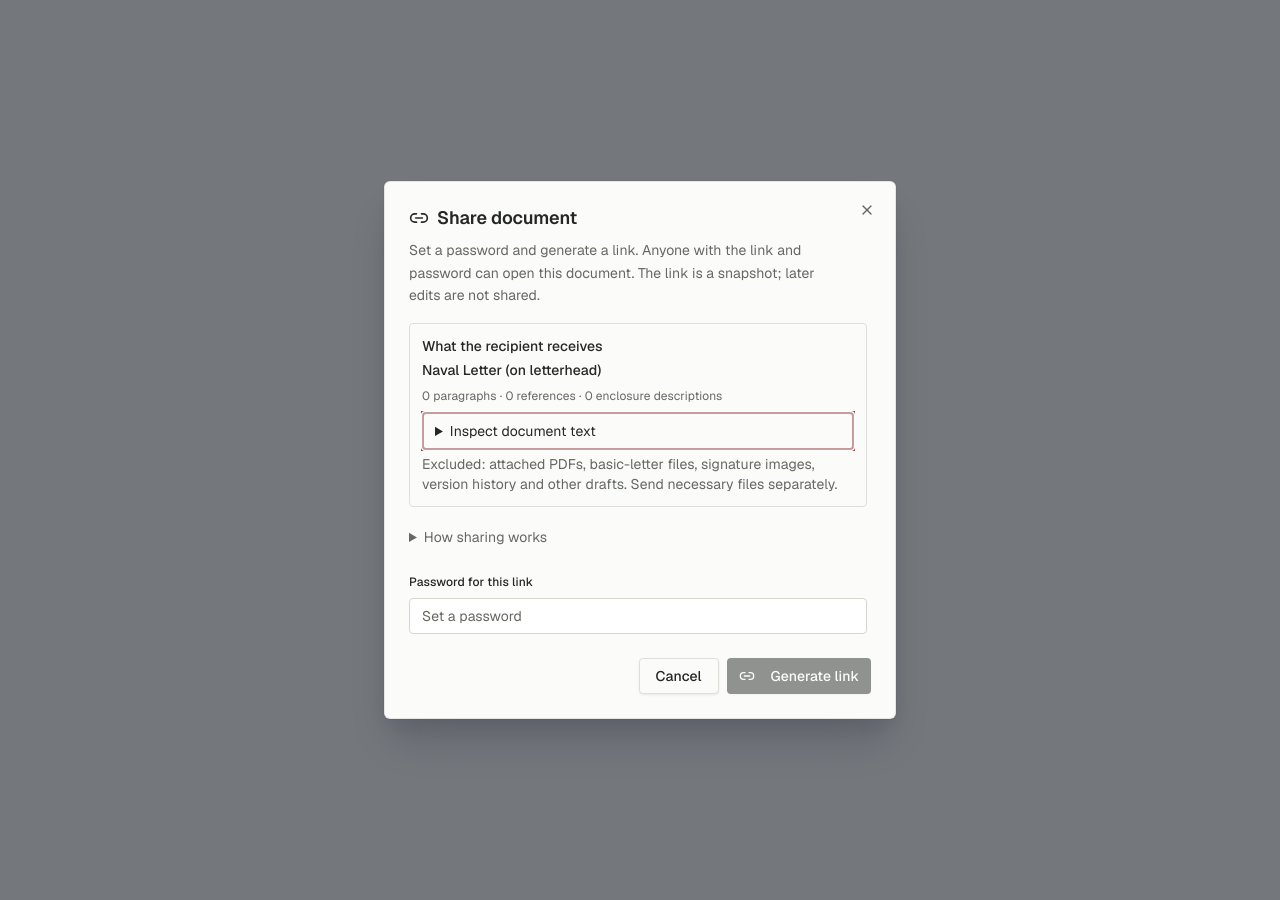
ShareModal — share mode › keeps the link usable after a failed initial copy and clears the error on retry
This screenshot has width=1280, height=900.
Type "test-password" into the password field labelled "Password for this link" at (638, 616), box [409,598,867,634]
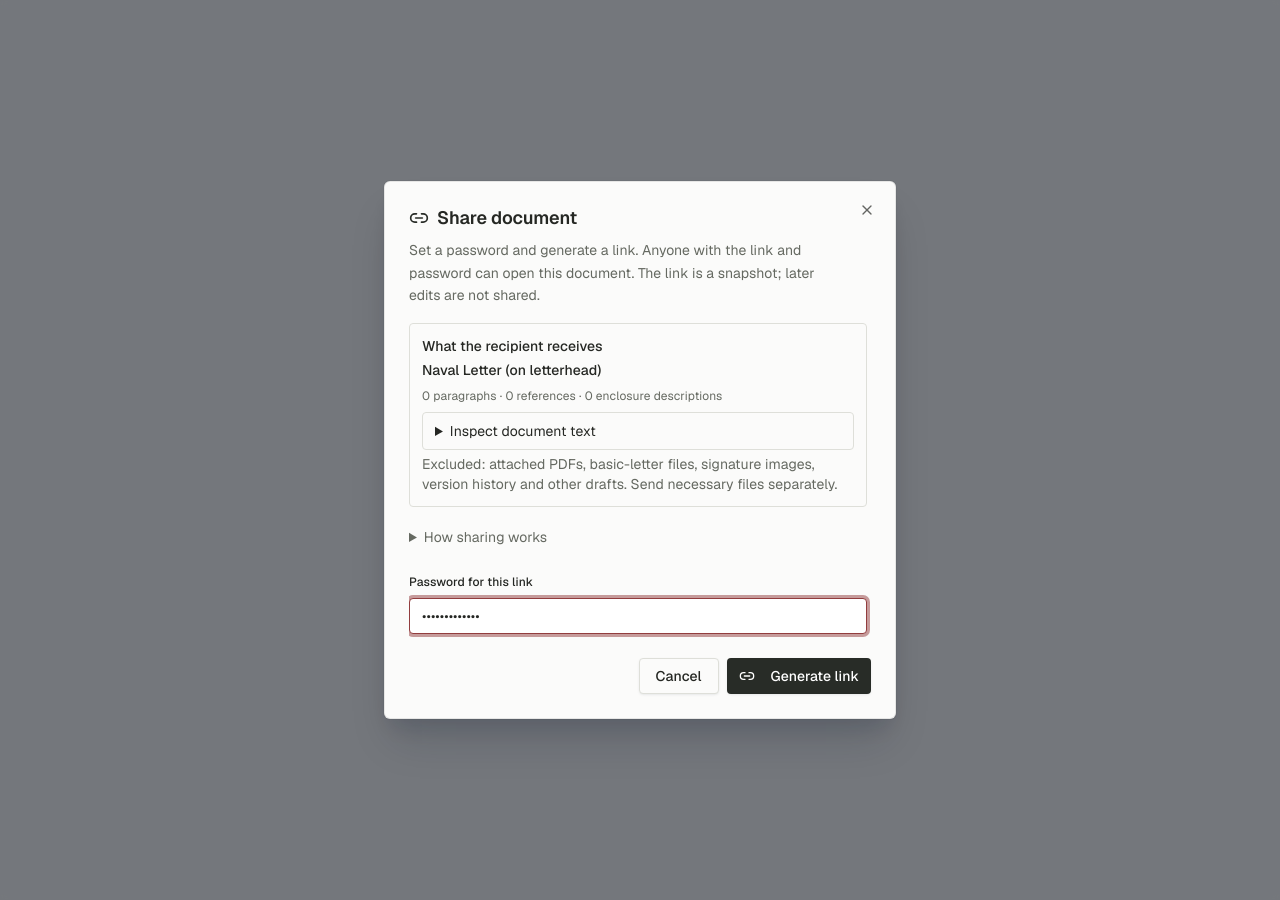
Click the button "Generate link" at (799, 676), box [727,658,871,694]
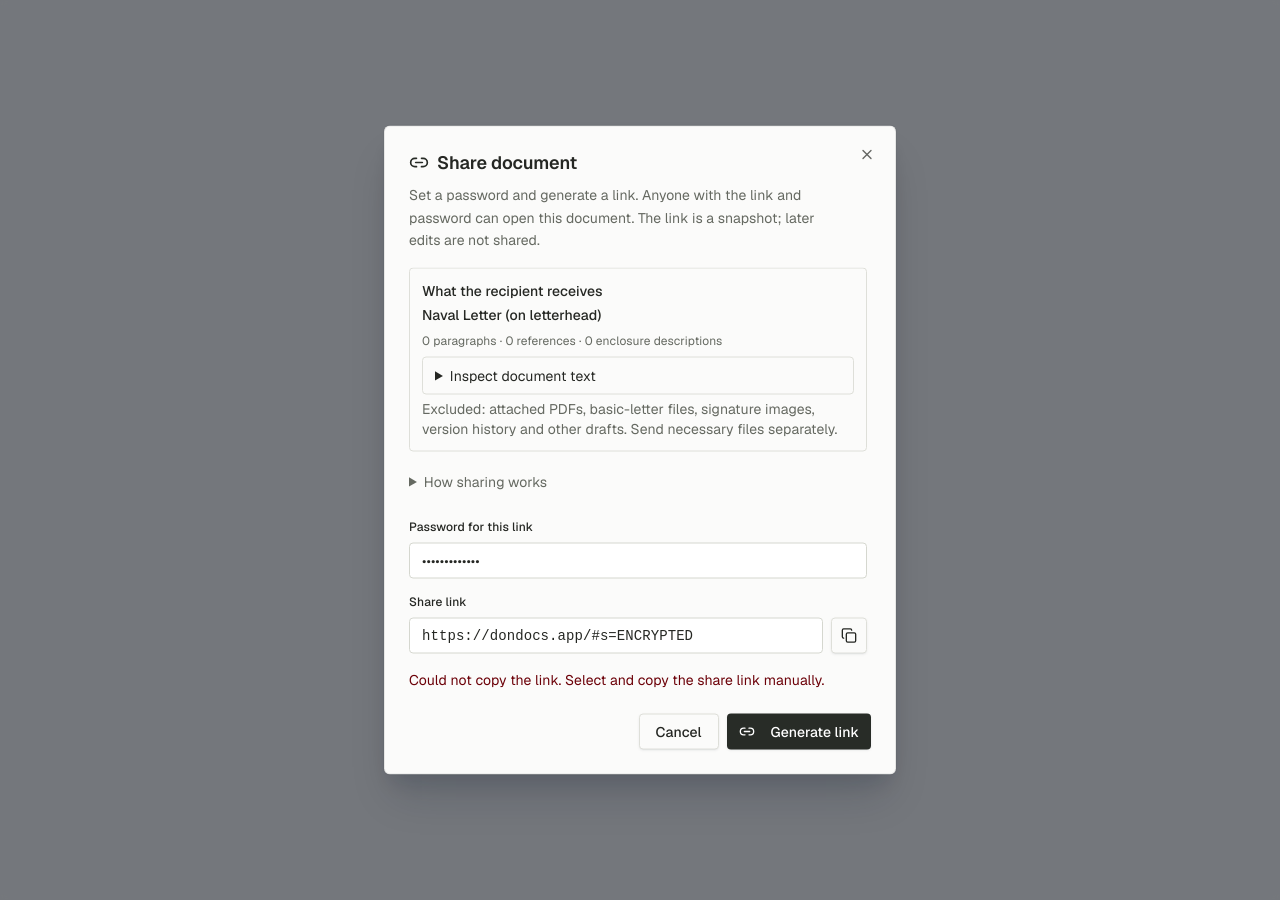
Now the message shows "Select and copy the share link manually.", box [409,670,824,688]
Now the field labelled "Share link" holds "https://dondocs.app/#s=ENCRYPTED", box [409,618,823,654]
Click the button named "Copy again" at (849, 636), box [831,618,867,654]
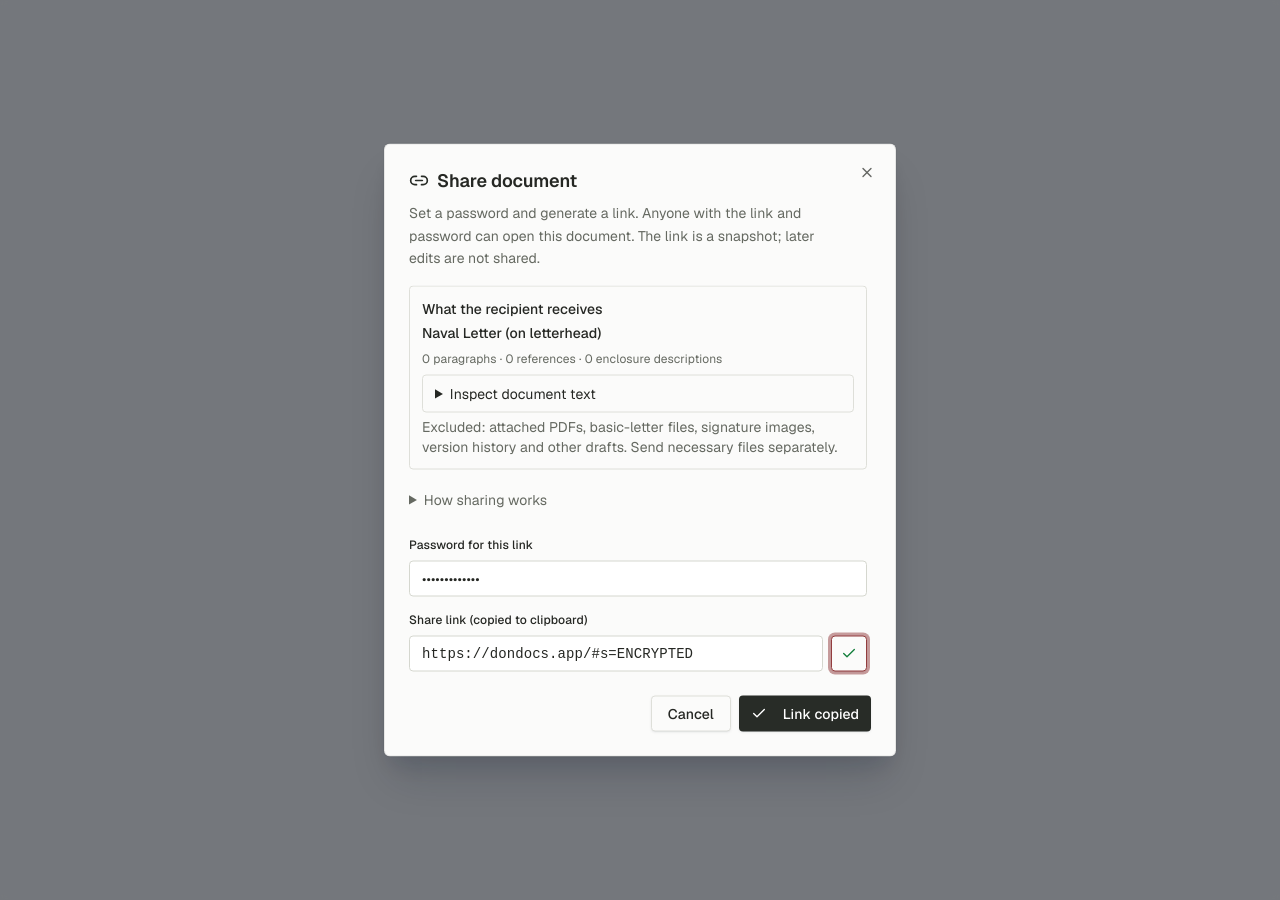
Now the field labelled "Share link (copied to clipboard)" holds "https://dondocs.app/#s=ENCRYPTED", box [409,636,823,672]
Now the message "Could not copy the link. Select and copy the share link manually." is gone
